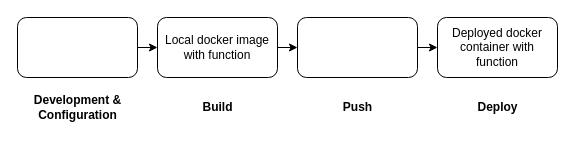
The diagram is 575 pixels wide and 145 high, and some of its shapes have lost their labels. The shapes that lost their labels are listed below. From the top down, each one's centre as x and y in pixels, then its label:
At (x=77, y=47): "Code & Configuration".
At (x=357, y=47): "Remote docker image with function".
